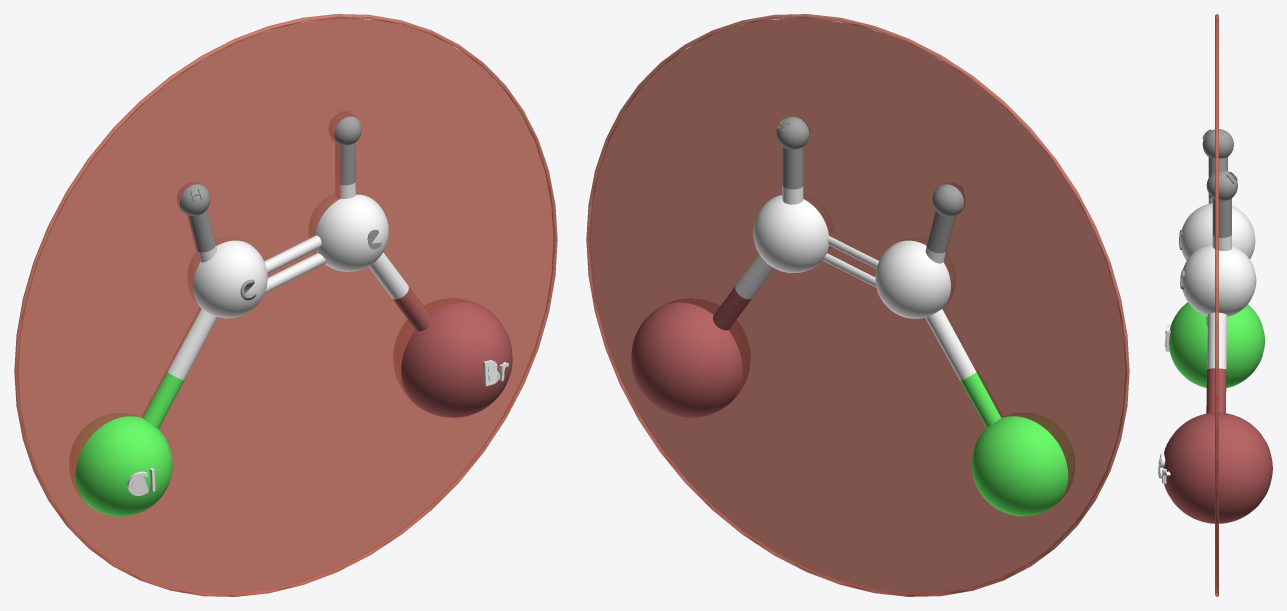
Rendered from ethyleneBrCl_new.fbx.
3 views of the same model, side by side, from view 1: azimuth 30°, elevation 25°; view 2: azimuth 150°, elevation 25°; view 3: azimuth 270°, elevation 25° (orthographic). The views are drawn at different scales.
Visible parts, largest first — view 1: Circle, molecule.084; view 2: Circle, molecule.084; view 3: molecule.084, Circle.
Boxes of the visible parts, x1=… form: Circle: x1=14, y1=14, x2=557, y2=596; molecule.084: x1=75, y1=116, x2=512, y2=516; Circle: x1=586, y1=14, x2=1129, y2=596; molecule.084: x1=631, y1=116, x2=1068, y2=516; molecule.084: x1=1158, y1=129, x2=1272, y2=523; Circle: x1=1215, y1=14, x2=1218, y2=596.
Size of the model in its own units: 597 by 596 by 118.
